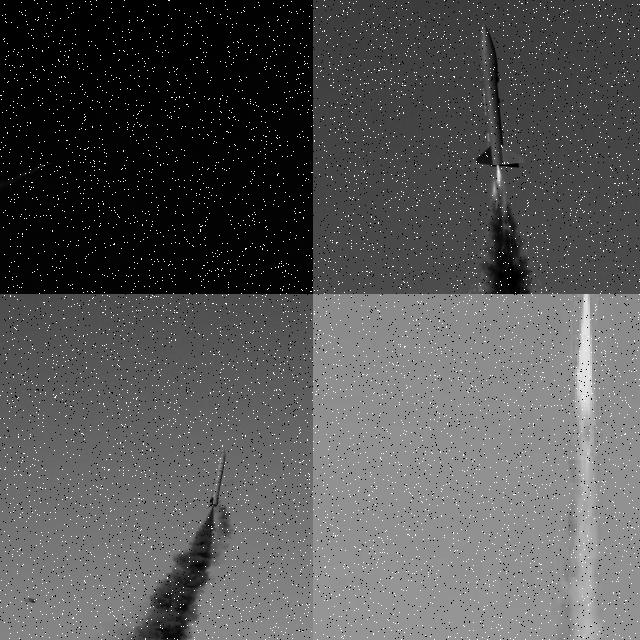Rocket: (468, 22, 526, 170), (206, 448, 227, 510), (40, 160, 54, 168)
